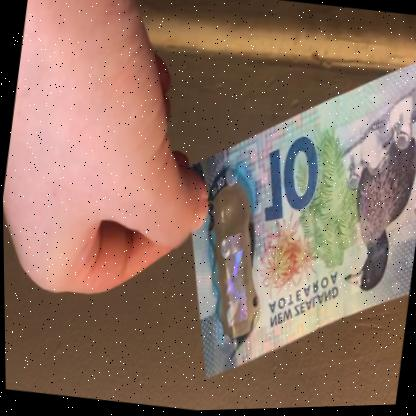10F: (199, 188, 263, 334)
